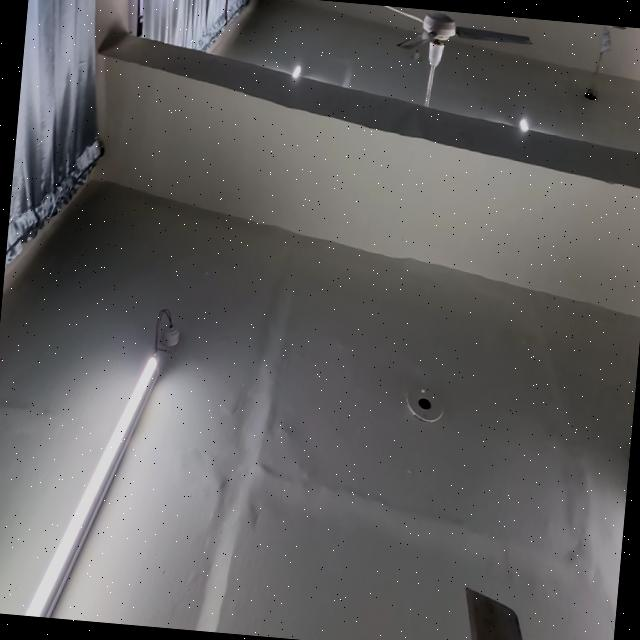Light: (23, 354, 158, 617), (518, 116, 527, 131), (290, 63, 299, 78)
